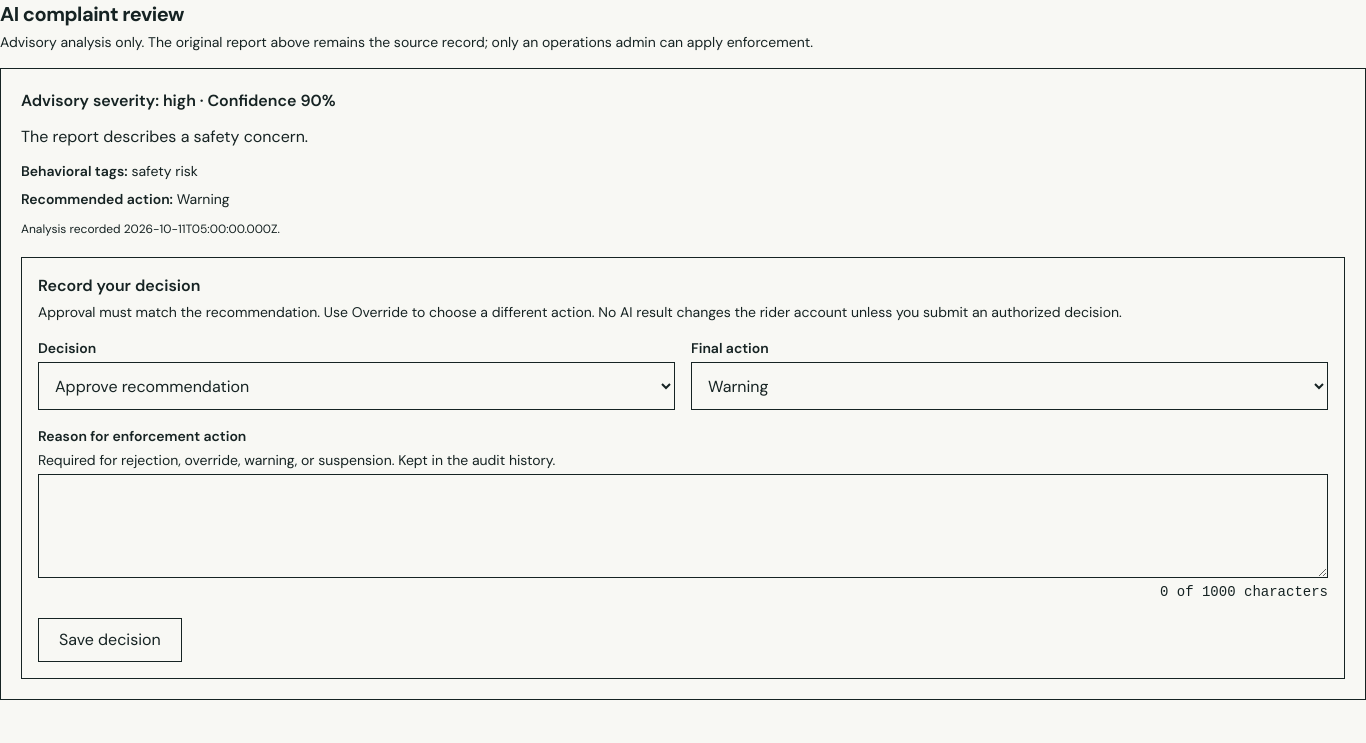
Test: AiComplaintReview (OA-FR-34, OA-FR-36, CS455-56, CS455-57) › checks a suspension length before sending
Step 1. Select "Suspension" in the dropdown labelled "Final action" → (1010,386), box [691,362,1328,410]
(page scrolled)
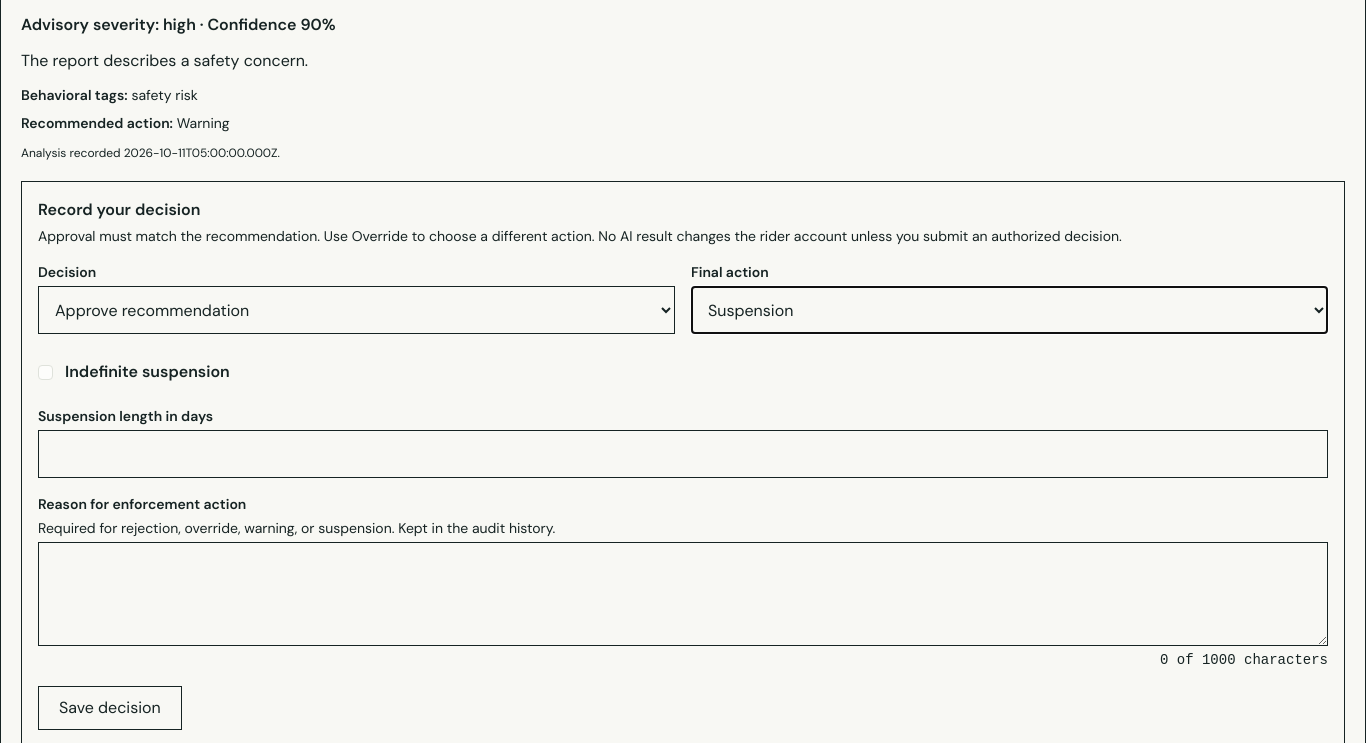
Step 2. Click the button "Save decision" → (110,708), box [38,686,182,730]
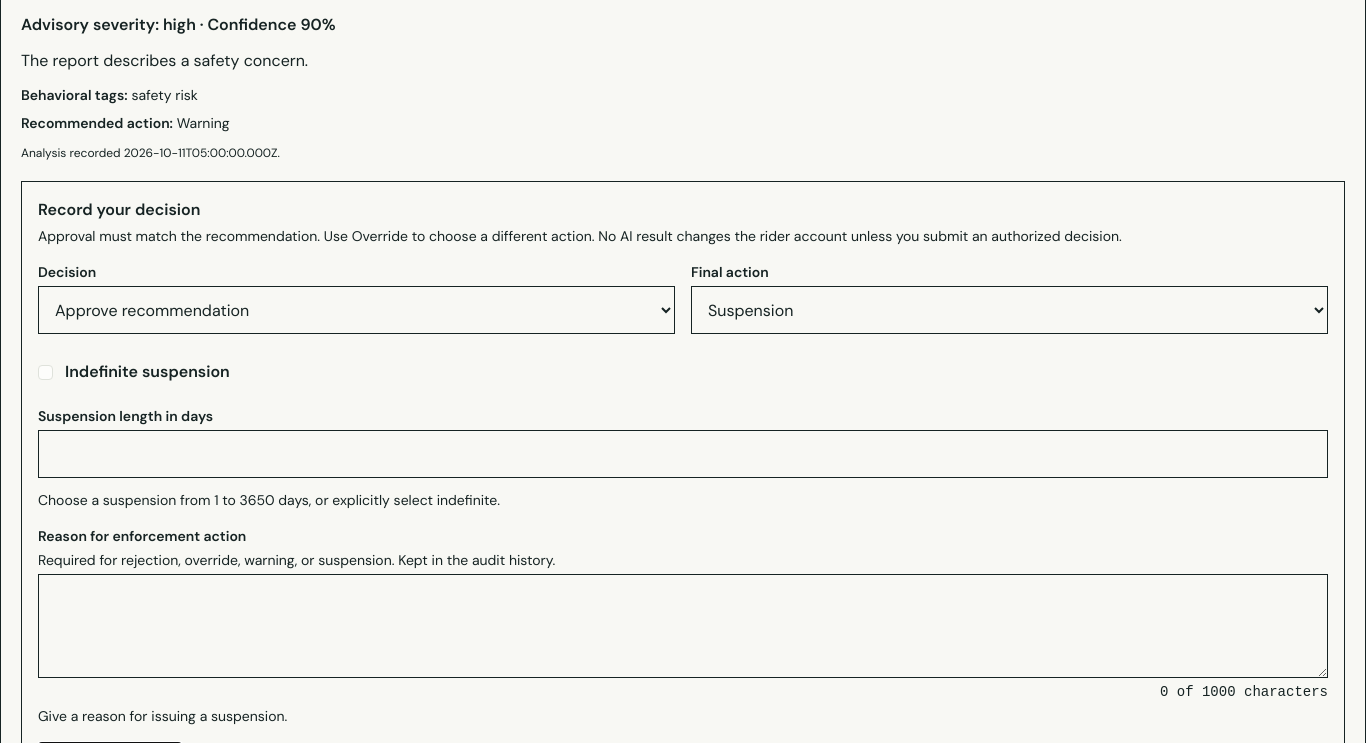
Expected: the text "Choose a suspension from 1 to 3650 days, or explicitly select indefinite." is shown, [38,491,500,509]
